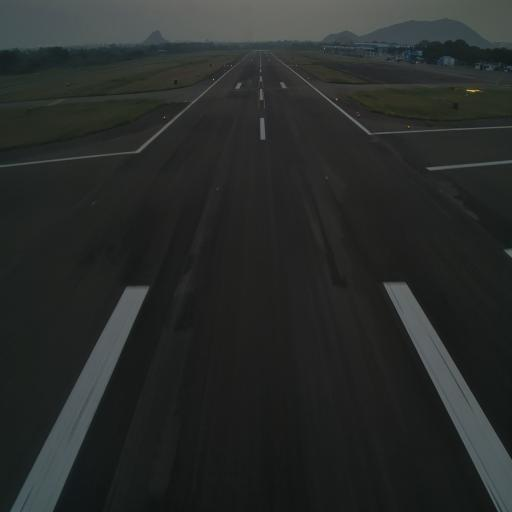on: (356, 111, 360, 119), (163, 114, 167, 122), (407, 123, 411, 130)
